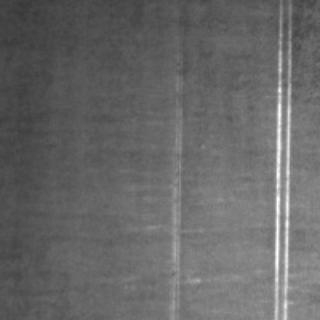scratches: (269, 1, 293, 316), (165, 63, 182, 315)
